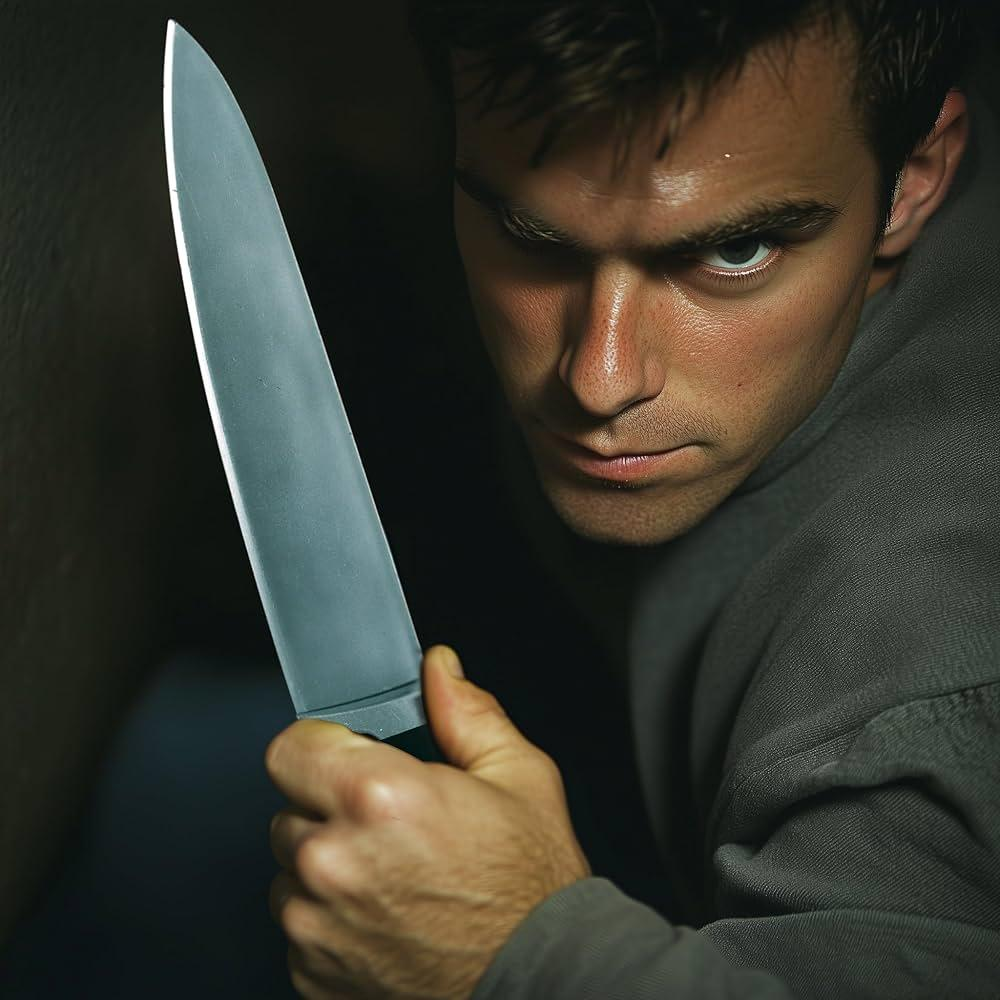Knife: (265, 0, 1000, 1000), (166, 21, 444, 733), (260, 646, 592, 1000)
